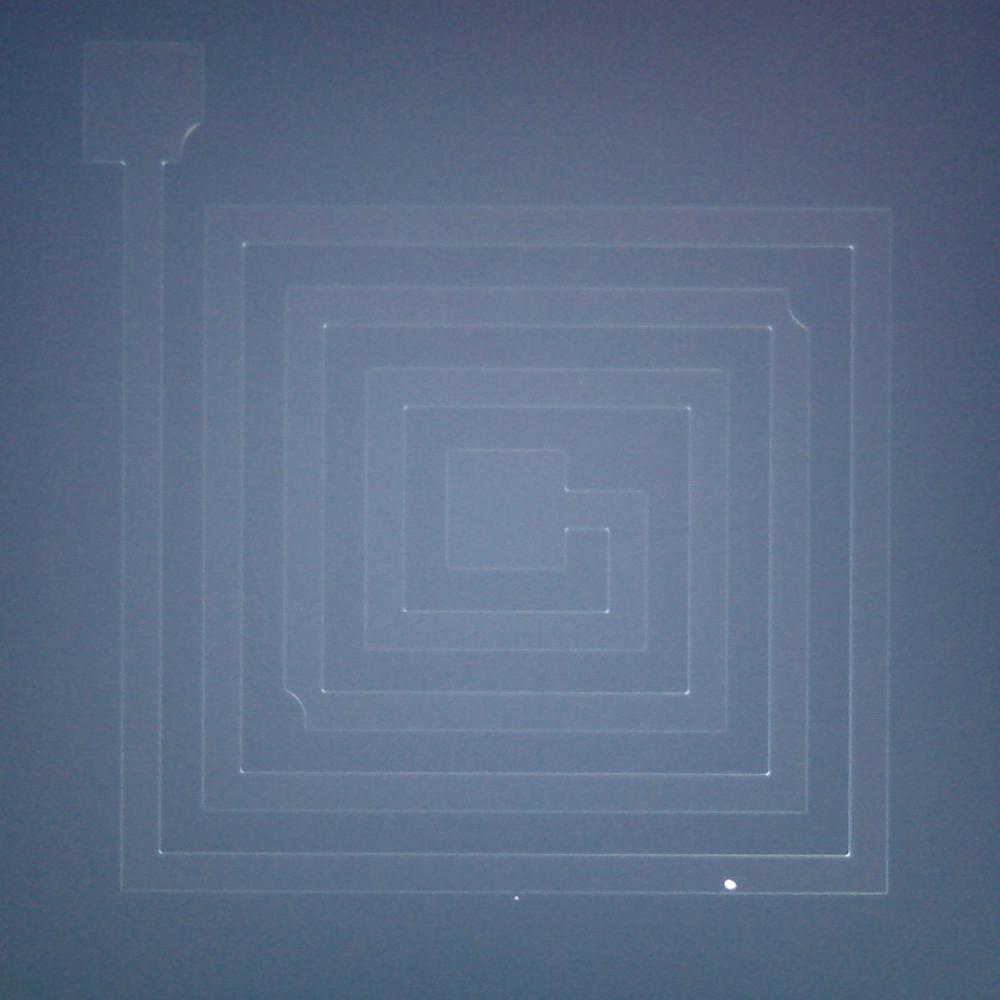dot: (724, 877, 738, 891), (514, 896, 519, 900)
